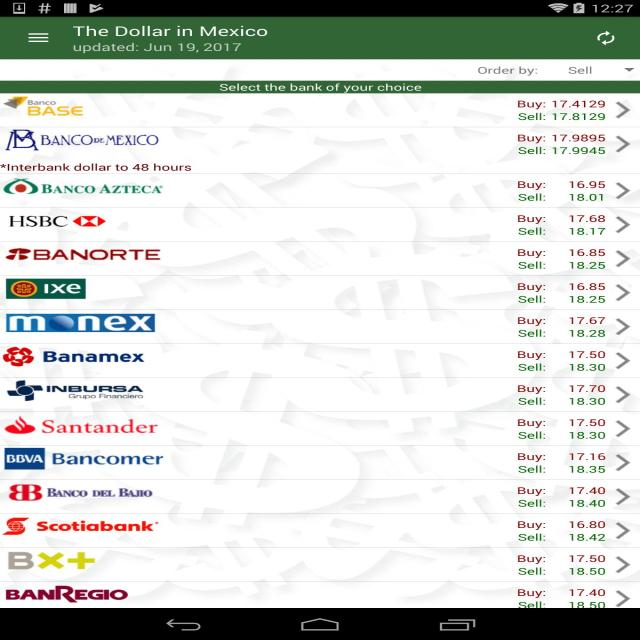button: (539, 58, 639, 83), (576, 29, 628, 48), (609, 450, 639, 478), (612, 586, 640, 610), (24, 26, 53, 49), (613, 348, 640, 372), (616, 554, 640, 581), (613, 178, 637, 204), (610, 247, 640, 267), (612, 417, 640, 438), (613, 214, 638, 237), (613, 521, 640, 542), (611, 282, 636, 304), (615, 484, 635, 509), (613, 97, 632, 122), (614, 133, 634, 154), (614, 383, 634, 401), (616, 316, 635, 334)
heading: (68, 26, 277, 40)
image: (0, 409, 165, 449), (0, 509, 171, 547), (0, 446, 172, 482), (0, 240, 181, 273), (0, 206, 177, 239), (0, 339, 165, 374), (0, 123, 168, 157), (0, 175, 179, 206), (1, 374, 164, 408), (0, 478, 172, 510), (0, 309, 169, 340), (0, 548, 155, 578), (0, 578, 157, 607), (0, 274, 143, 305), (0, 94, 141, 123)
label: (478, 66, 532, 76)
text: (208, 79, 434, 95), (500, 484, 614, 510), (504, 313, 611, 340), (504, 552, 611, 579), (501, 348, 612, 374), (506, 212, 608, 239), (509, 130, 607, 158), (504, 246, 608, 272), (502, 452, 610, 477), (504, 519, 609, 544), (503, 384, 612, 408), (505, 284, 610, 308), (511, 98, 610, 123), (508, 179, 607, 204), (503, 418, 610, 441), (500, 588, 611, 608)
